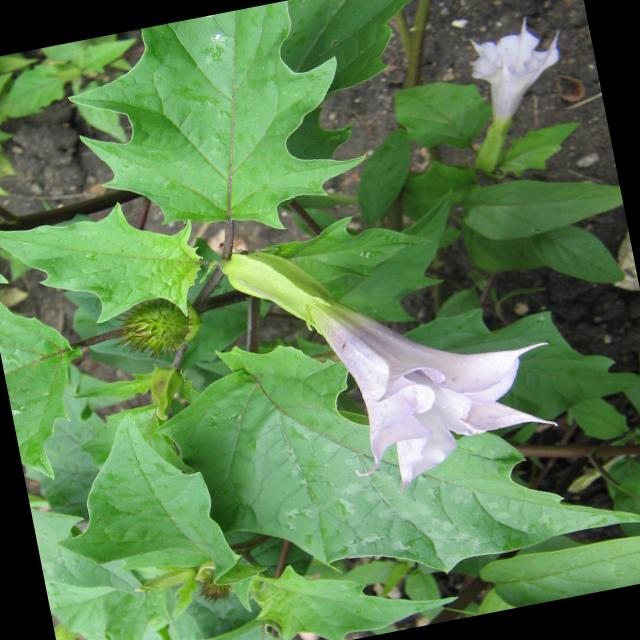Poisonous-Datura_Stramonium: (181, 160, 640, 640), (72, 0, 404, 272), (392, 0, 610, 207)
